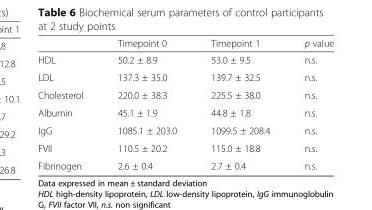table: (37, 37, 333, 171)
table column: (99, 37, 193, 171), (193, 37, 286, 171), (37, 37, 99, 171), (286, 37, 333, 171)
table column header: (37, 37, 333, 50)
table row: (37, 50, 333, 68), (37, 85, 333, 103), (37, 103, 333, 121), (37, 138, 333, 156), (37, 68, 333, 85), (37, 121, 333, 138), (37, 156, 333, 171), (37, 37, 333, 50)
